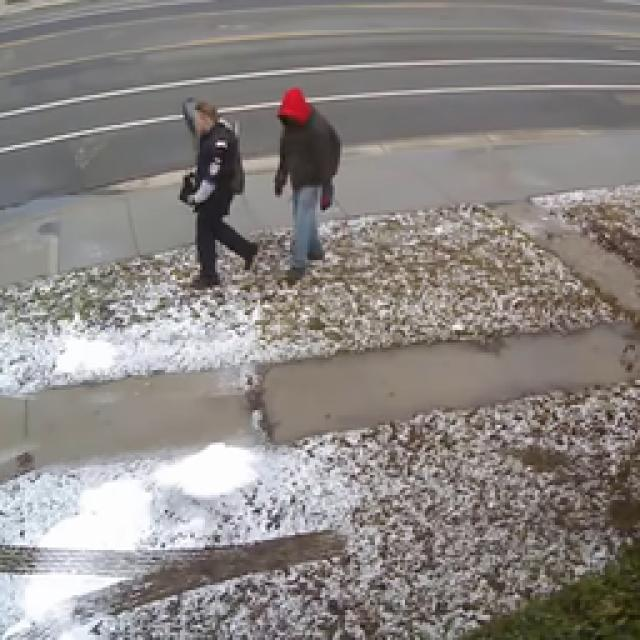Persona: (173, 100, 259, 294), (269, 85, 349, 281)
